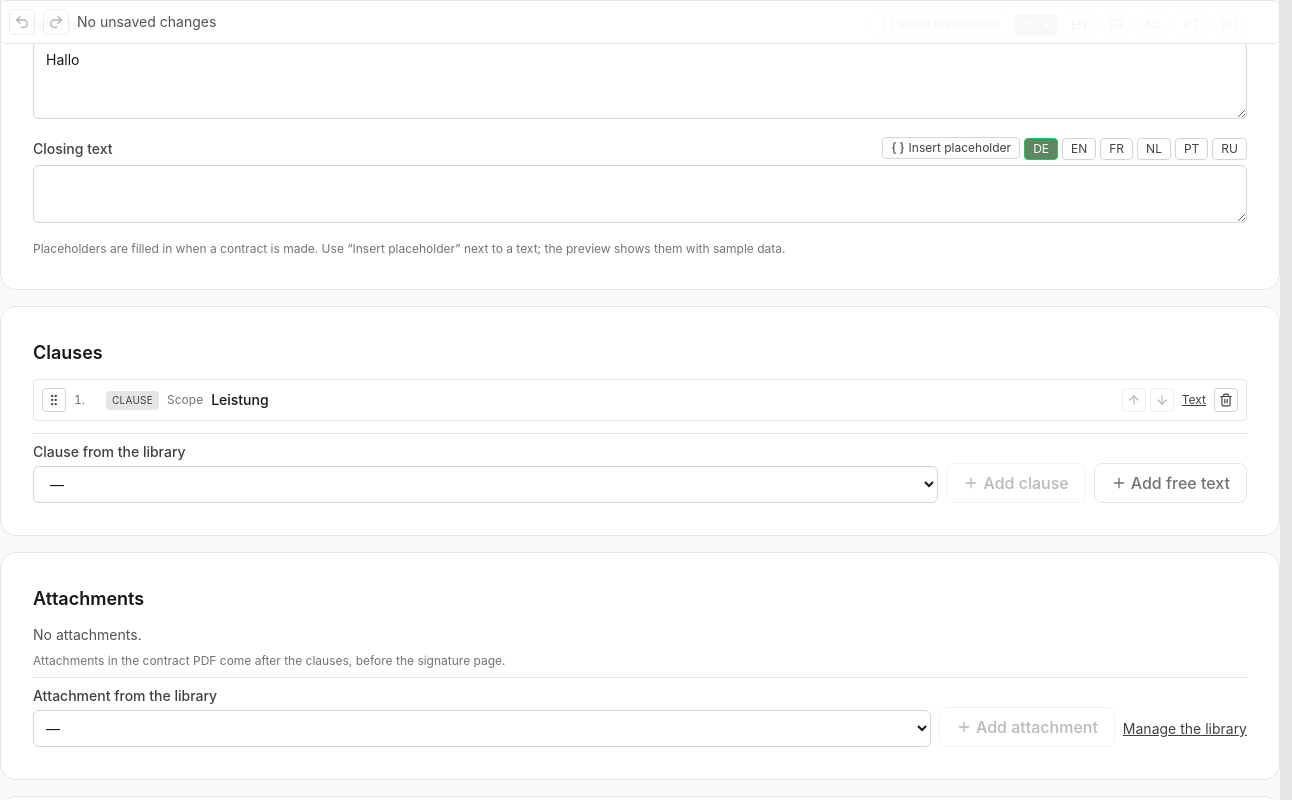
Test: after a save the editor shows the inherited text the server now uses
This screenshot has width=1292, height=800.
(page scrolled)
Expected: the text "Leistung" is shown, top-left (211, 391), bottom-right (269, 408)
Click the button "Text".
click(1194, 400)  # box top-left (1178, 392), bottom-right (1210, 408)
(page scrolled)
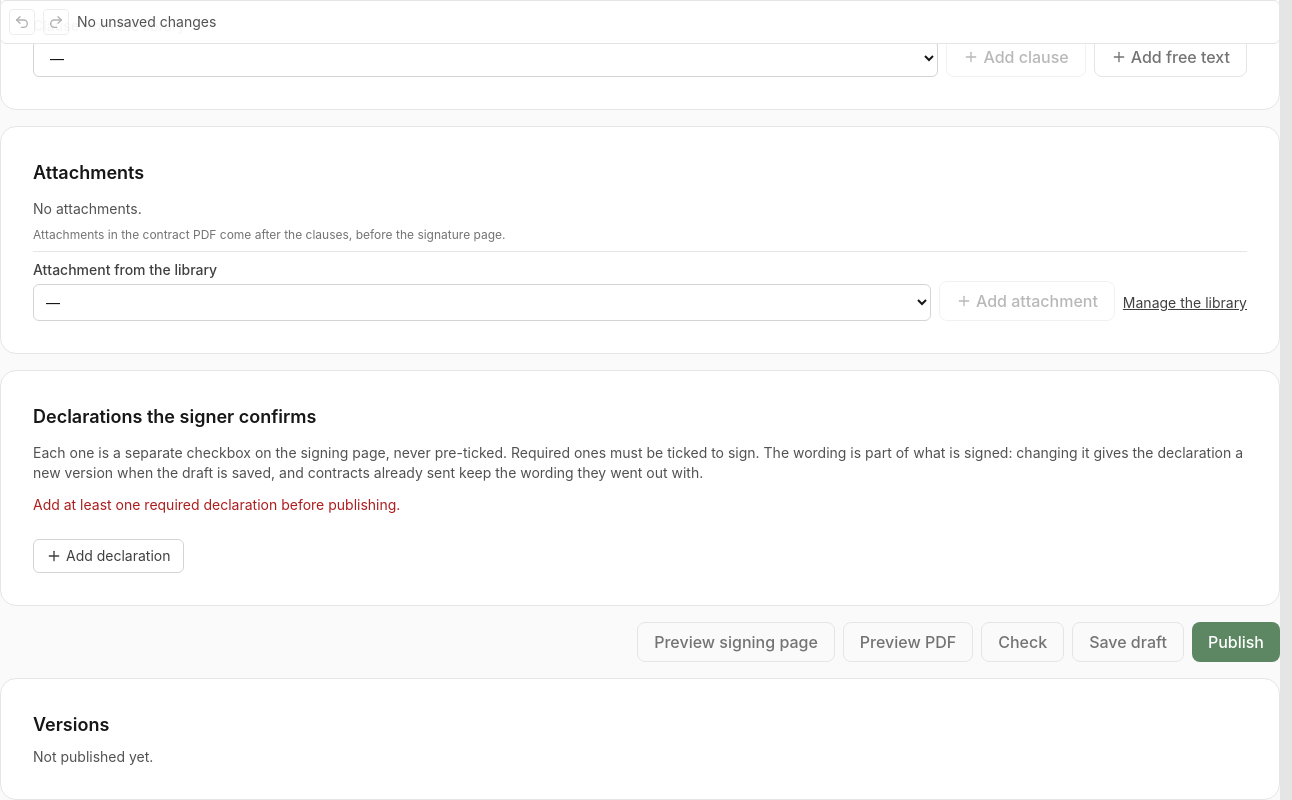
Click the button "Save draft".
click(1128, 642)  # box top-left (1072, 622), bottom-right (1184, 662)
(page scrolled)
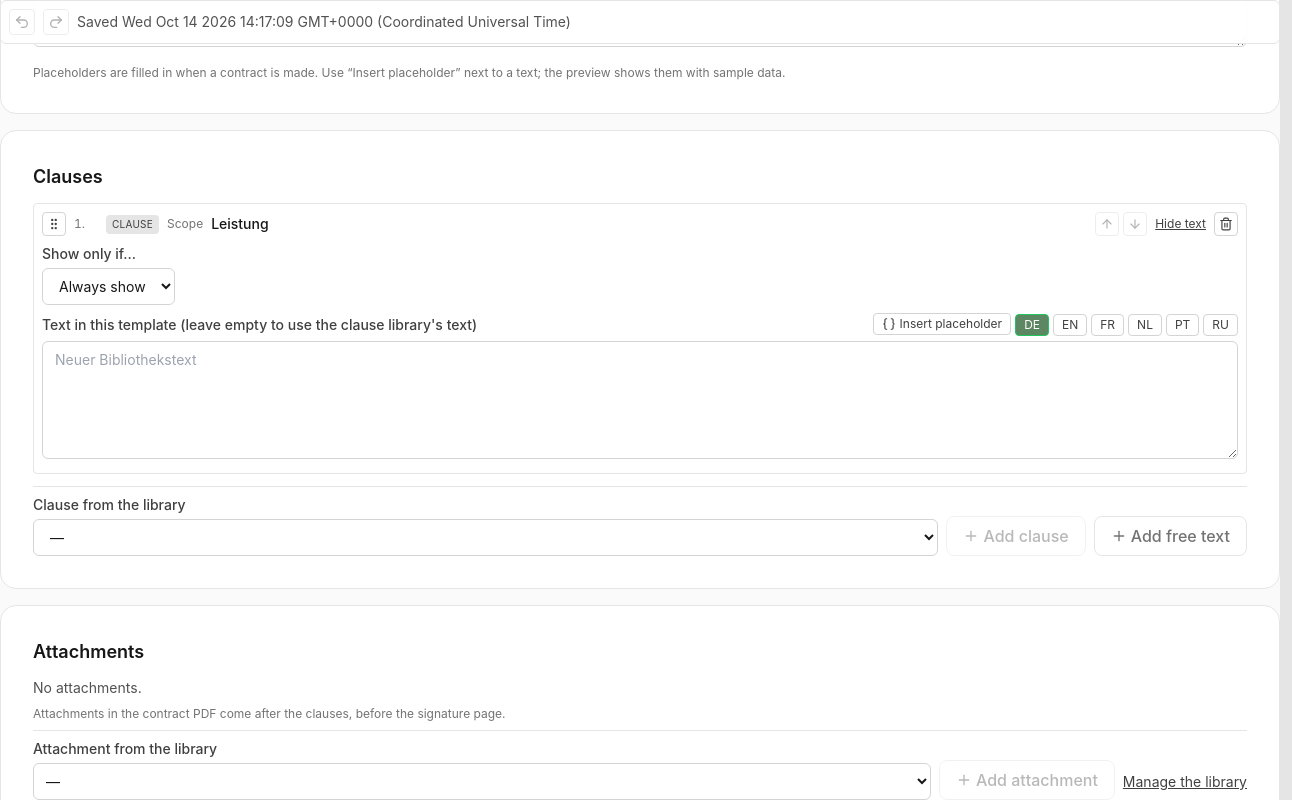
Result: the text box with placeholder "Neuer Bibliothekstext" is shown at top-left (42, 341), bottom-right (1238, 459)
